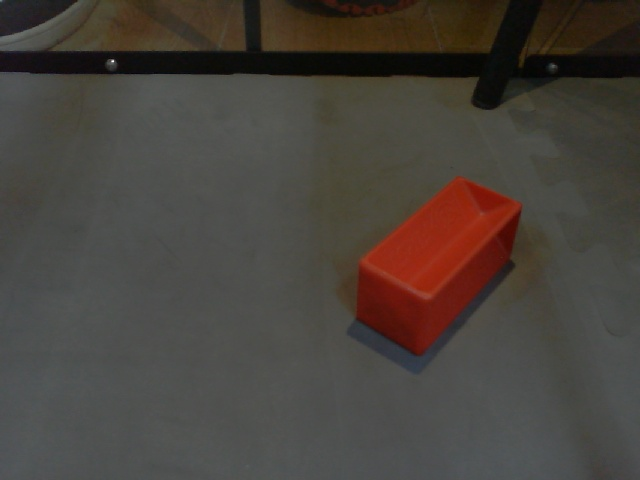RedSample: (352, 177, 526, 356)
